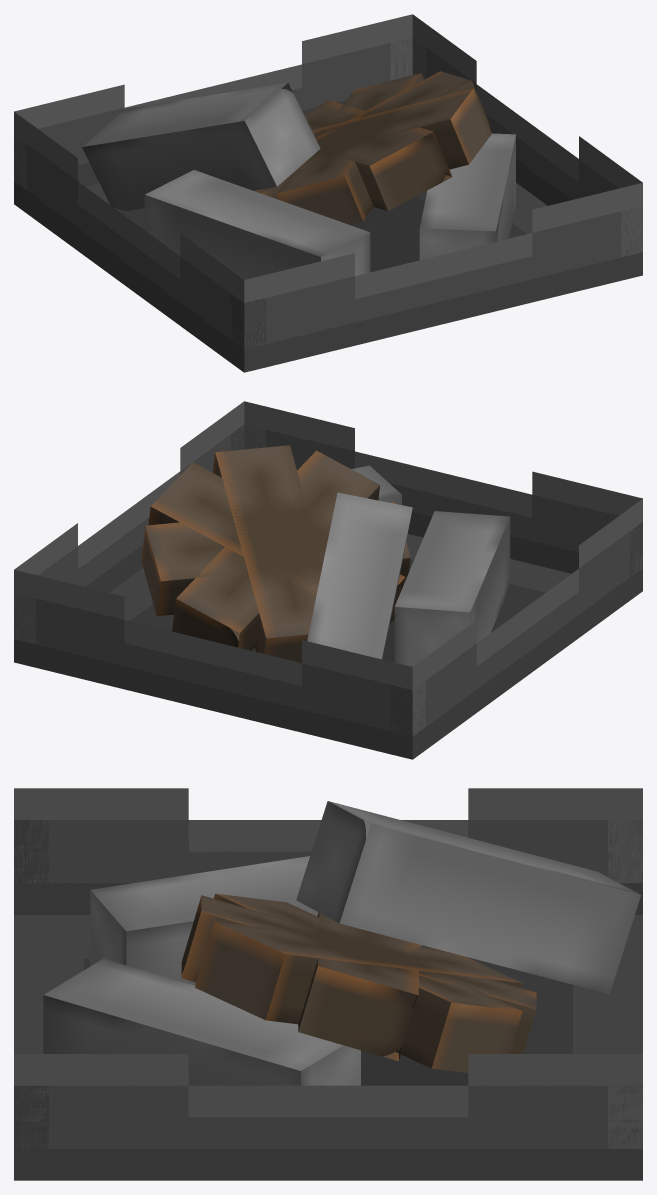
The model's file is TrayScrap2.fbx.
3 views of the same model, one above another, from view 1: azimuth 30°, elevation 25°; view 2: azimuth 150°, elevation 25°; view 3: azimuth 270°, elevation 25° (orthographic). The views are drawn at different scales.
Visible parts, largest first — view 1: cube_192, cube_190, cube_227, cube_226, cube_193, cube_191, cube_221, cube_225, cube_222, cube_223, cube_189, cube_224; view 2: cube_193, cube_190, cube_192, cube_226, cube_227, cube_223, cube_224, cube_225, cube_191, cube_222, cube_189, cube_221; view 3: cube_191, cube_190, cube_227, cube_221, cube_189, cube_226, cube_223, cube_224, cube_222, cube_225.
Part boxes in pixels (x1,y1,x2,y2): cube_192: [244, 183, 642, 372]; cube_190: [14, 112, 244, 372]; cube_227: [82, 82, 320, 211]; cube_226: [144, 170, 370, 279]; cube_193: [14, 14, 412, 186]; cube_191: [412, 14, 642, 205]; cube_221: [419, 133, 515, 260]; cube_225: [304, 100, 452, 211]; cube_222: [277, 73, 424, 224]; cube_223: [312, 88, 491, 169]; cube_189: [85, 183, 547, 272]; cube_224: [253, 71, 490, 199]; cube_193: [14, 570, 412, 759]; cube_190: [412, 499, 642, 759]; cube_192: [244, 401, 642, 573]; cube_226: [394, 511, 510, 666]; cube_227: [307, 492, 412, 659]; cube_223: [212, 445, 318, 662]; cube_224: [148, 462, 405, 623]; cube_225: [172, 450, 380, 650]; cube_191: [14, 401, 244, 592]; cube_222: [141, 502, 410, 616]; cube_189: [109, 534, 571, 662]; cube_221: [351, 465, 401, 504]; cube_191: [14, 1054, 642, 1180]; cube_190: [14, 788, 642, 914]; cube_227: [296, 801, 640, 994]; cube_221: [43, 958, 360, 1085]; cube_189: [14, 915, 642, 1085]; cube_226: [90, 856, 421, 985]; cube_223: [195, 921, 523, 1024]; cube_224: [298, 912, 419, 1061]; cube_222: [214, 893, 522, 1072]; cube_225: [181, 895, 536, 1053].
Size of the model in its own units: 112 by 42.54 by 113.
